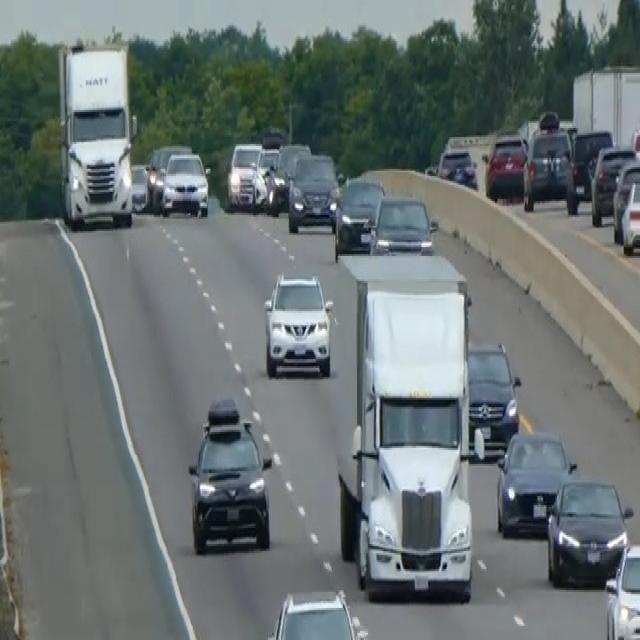car: (545, 474, 632, 586), (495, 428, 576, 537), (262, 268, 333, 378), (466, 338, 521, 458), (263, 585, 370, 638), (332, 172, 384, 260), (523, 124, 574, 208), (287, 151, 339, 233), (369, 190, 435, 254), (590, 142, 639, 226), (566, 126, 613, 210), (604, 540, 639, 638), (265, 141, 311, 215), (160, 149, 209, 217), (484, 130, 529, 202), (144, 142, 191, 210), (226, 138, 262, 210), (612, 156, 639, 244), (437, 144, 477, 190), (252, 144, 279, 210), (620, 176, 639, 256), (130, 160, 150, 212)
jeep: (186, 394, 273, 554)
lorry: (330, 250, 475, 602), (56, 38, 138, 230)
